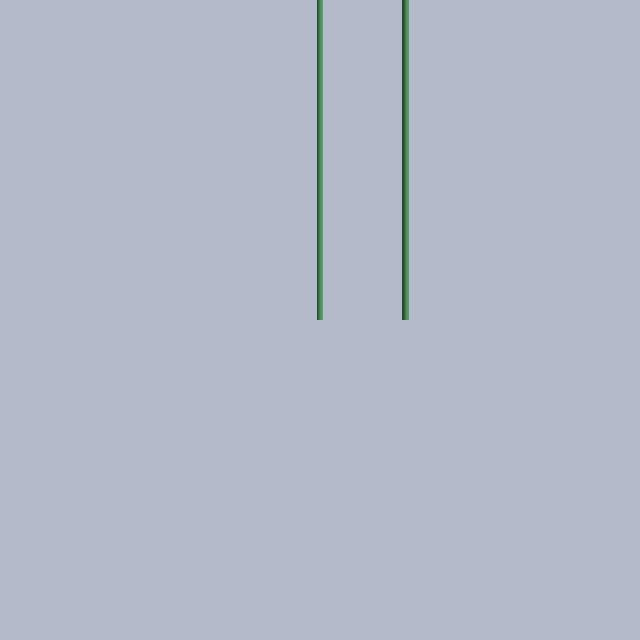Poste: (393, 1, 415, 324), (309, 1, 327, 322)
